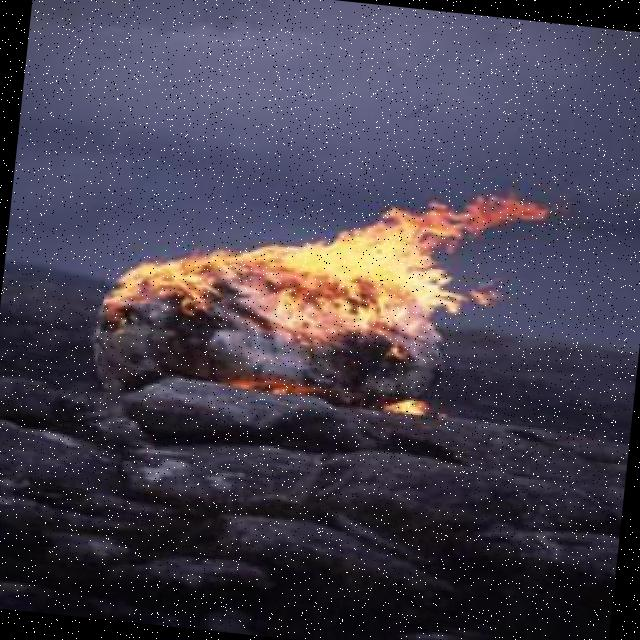fire: (96, 104, 559, 410)
